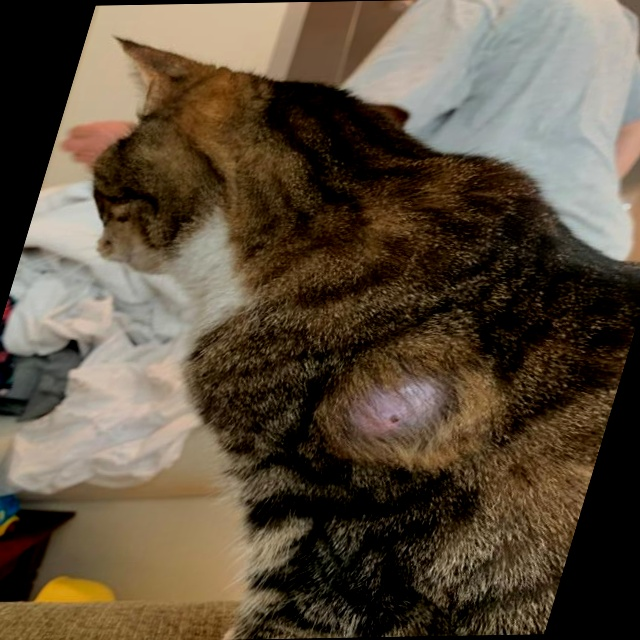lump_and_bump: (337, 369, 465, 443)
